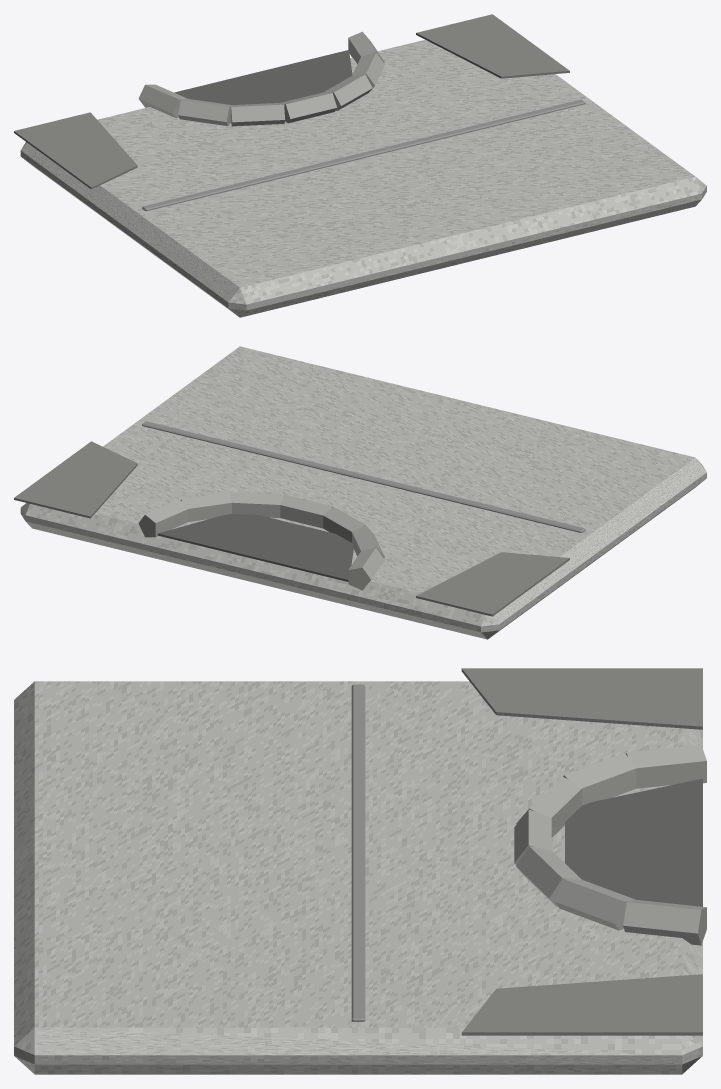
The model's file is tank_top.glb.
3 renders of one model, top to bottom at view 1: azimuth 30°, elevation 25°; view 2: azimuth 150°, elevation 25°; view 3: azimuth 270°, elevation 25°, orthographic. The views are drawn at different scales.
Visible parts, largest first — view 1: block_body, block_arm1, block_arm-1, block_neckhole, block_fold, block_neck4, block_neck3, block_neck5, block_neck6, block_neck2, block_neck1, block_neck0; view 2: block_body, block_neckhole, block_arm-1, block_arm1, block_fold, block_neck0, block_neck2, block_neck3, block_neck1, block_neck6, block_neck4, block_neck5; view 3: block_body, block_neckhole, block_arm1, block_arm-1, block_fold, block_neck0, block_neck6, block_neck1, block_neck5, block_neck2, block_neck4, block_neck3.
Part boxes in pixels (box(x1,y1,x2,y2)): block_body: box(20, 39, 706, 317); block_arm1: box(416, 14, 569, 78); block_arm-1: box(14, 112, 137, 189); block_neckhole: box(174, 50, 352, 104); block_fold: box(142, 99, 585, 211); block_neck4: box(231, 103, 285, 126); block_neck3: box(281, 92, 336, 123); block_neck5: box(178, 99, 231, 125); block_neck6: box(138, 84, 187, 118); block_neck2: box(324, 74, 372, 110); block_neck1: box(352, 52, 384, 90); block_neck0: box(348, 31, 384, 63); block_body: box(20, 346, 706, 639); block_neckhole: box(157, 514, 353, 581); block_arm-1: box(416, 552, 569, 616); block_arm1: box(14, 441, 137, 518); block_fold: box(142, 421, 585, 532); block_neck0: box(138, 499, 188, 537); block_neck2: box(231, 492, 284, 517); block_neck3: box(280, 495, 332, 528); block_neck1: box(180, 492, 231, 521); block_neck6: box(348, 547, 384, 590); block_neck4: box(323, 507, 365, 542); block_neck5: box(352, 525, 384, 558); block_body: box(14, 681, 702, 1074); block_neckhole: box(565, 778, 702, 906); block_arm1: box(461, 974, 702, 1035); block_arm-1: box(461, 668, 702, 729); block_fold: box(351, 684, 365, 1021); block_neck0: box(623, 900, 706, 945); block_neck6: box(626, 744, 706, 788); block_neck1: box(554, 879, 635, 930); block_neck5: box(563, 753, 636, 805); block_neck2: box(516, 846, 581, 906); block_neck4: box(516, 776, 581, 837); block_neck3: box(514, 809, 551, 865).
Size of the model in its own units: 0.25 by 0.0237 by 0.2012.
1 material, 1 textured.
